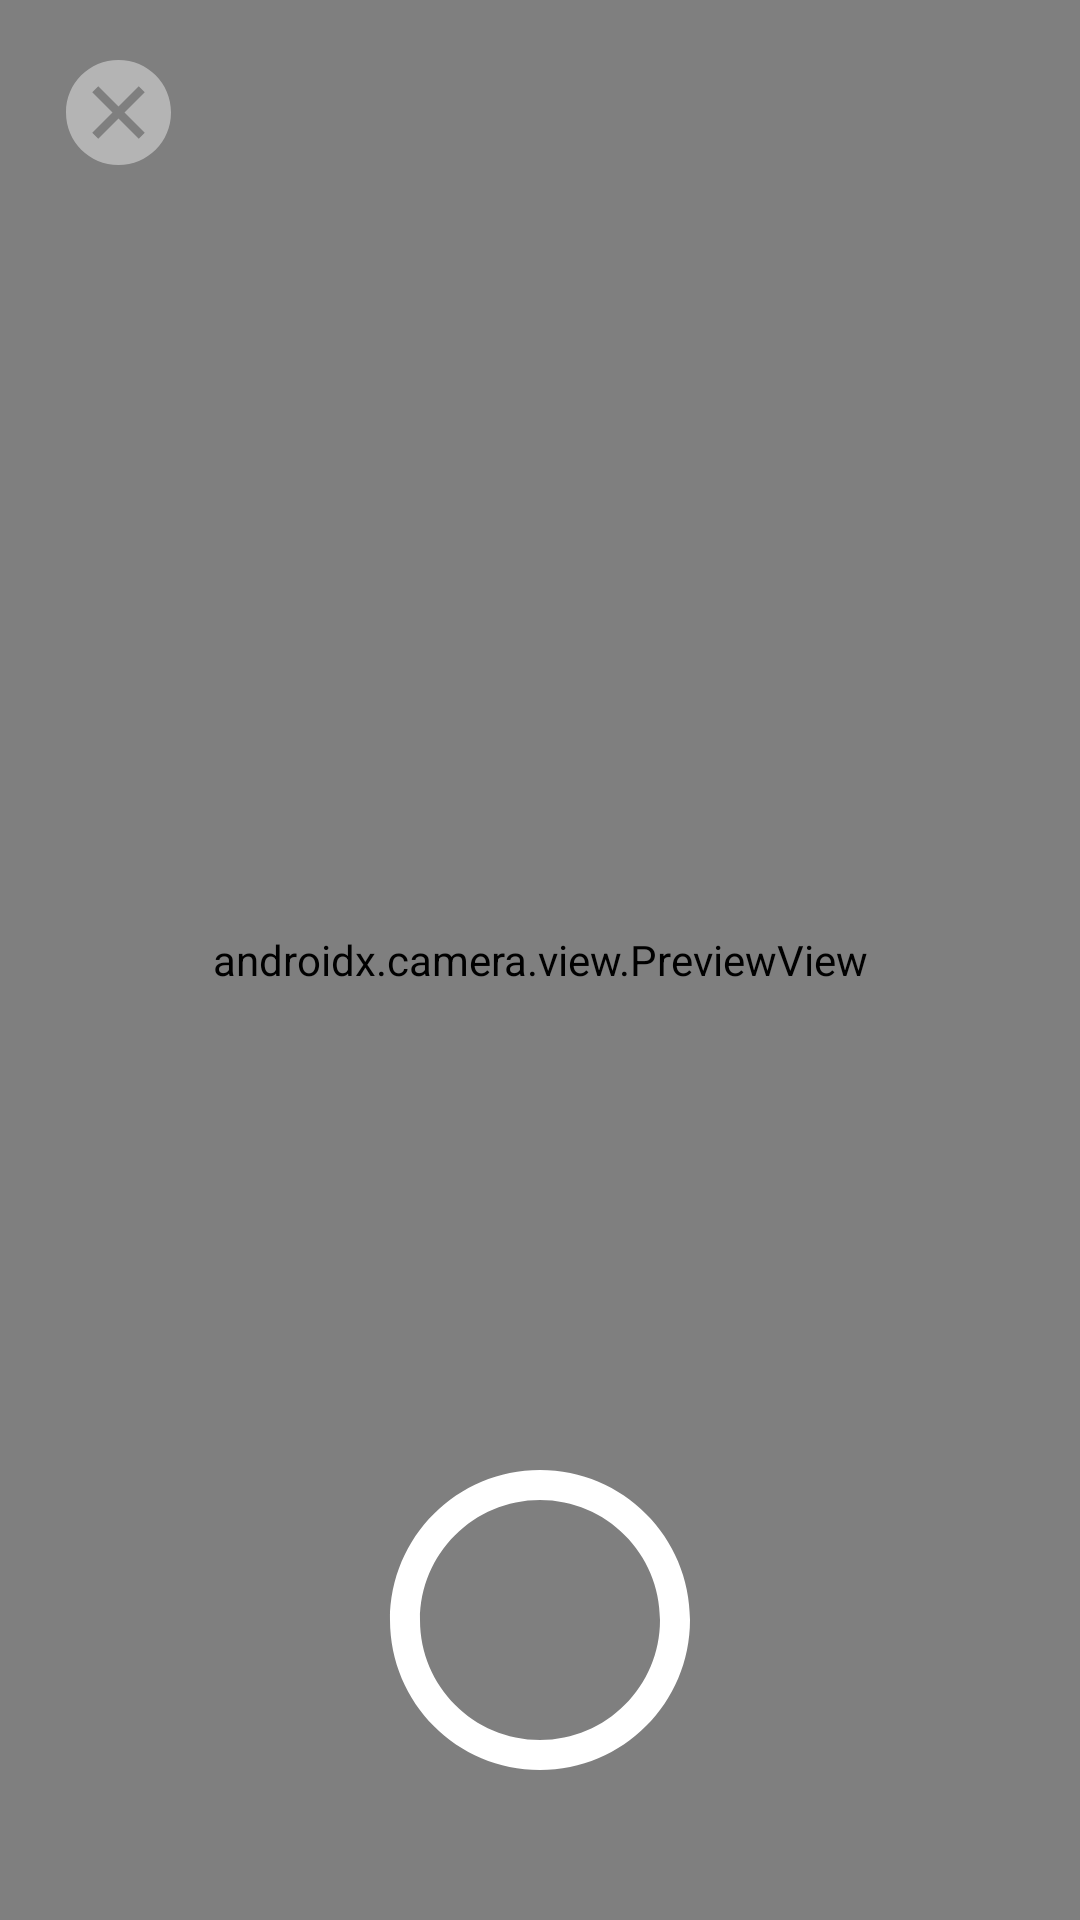

Icons on this 1080px x 1920px Android screen, each with the point to tap as point (x, y):
camera take picture: point (540, 1620)
